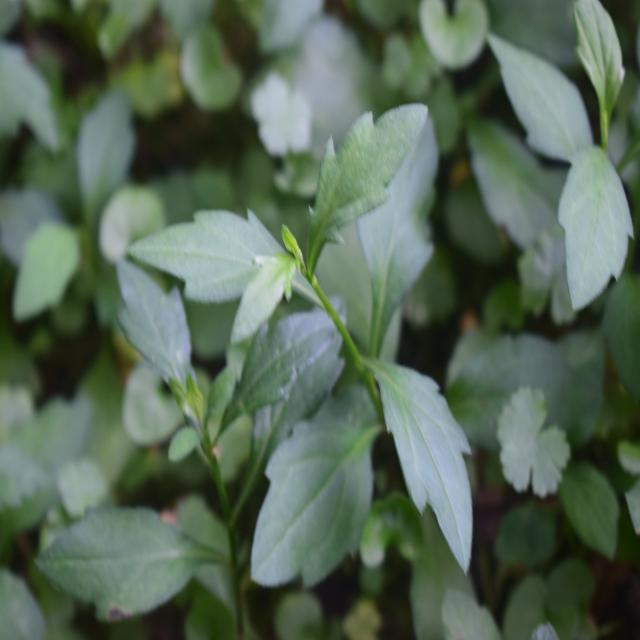Indian aster: (165, 113, 475, 564)
